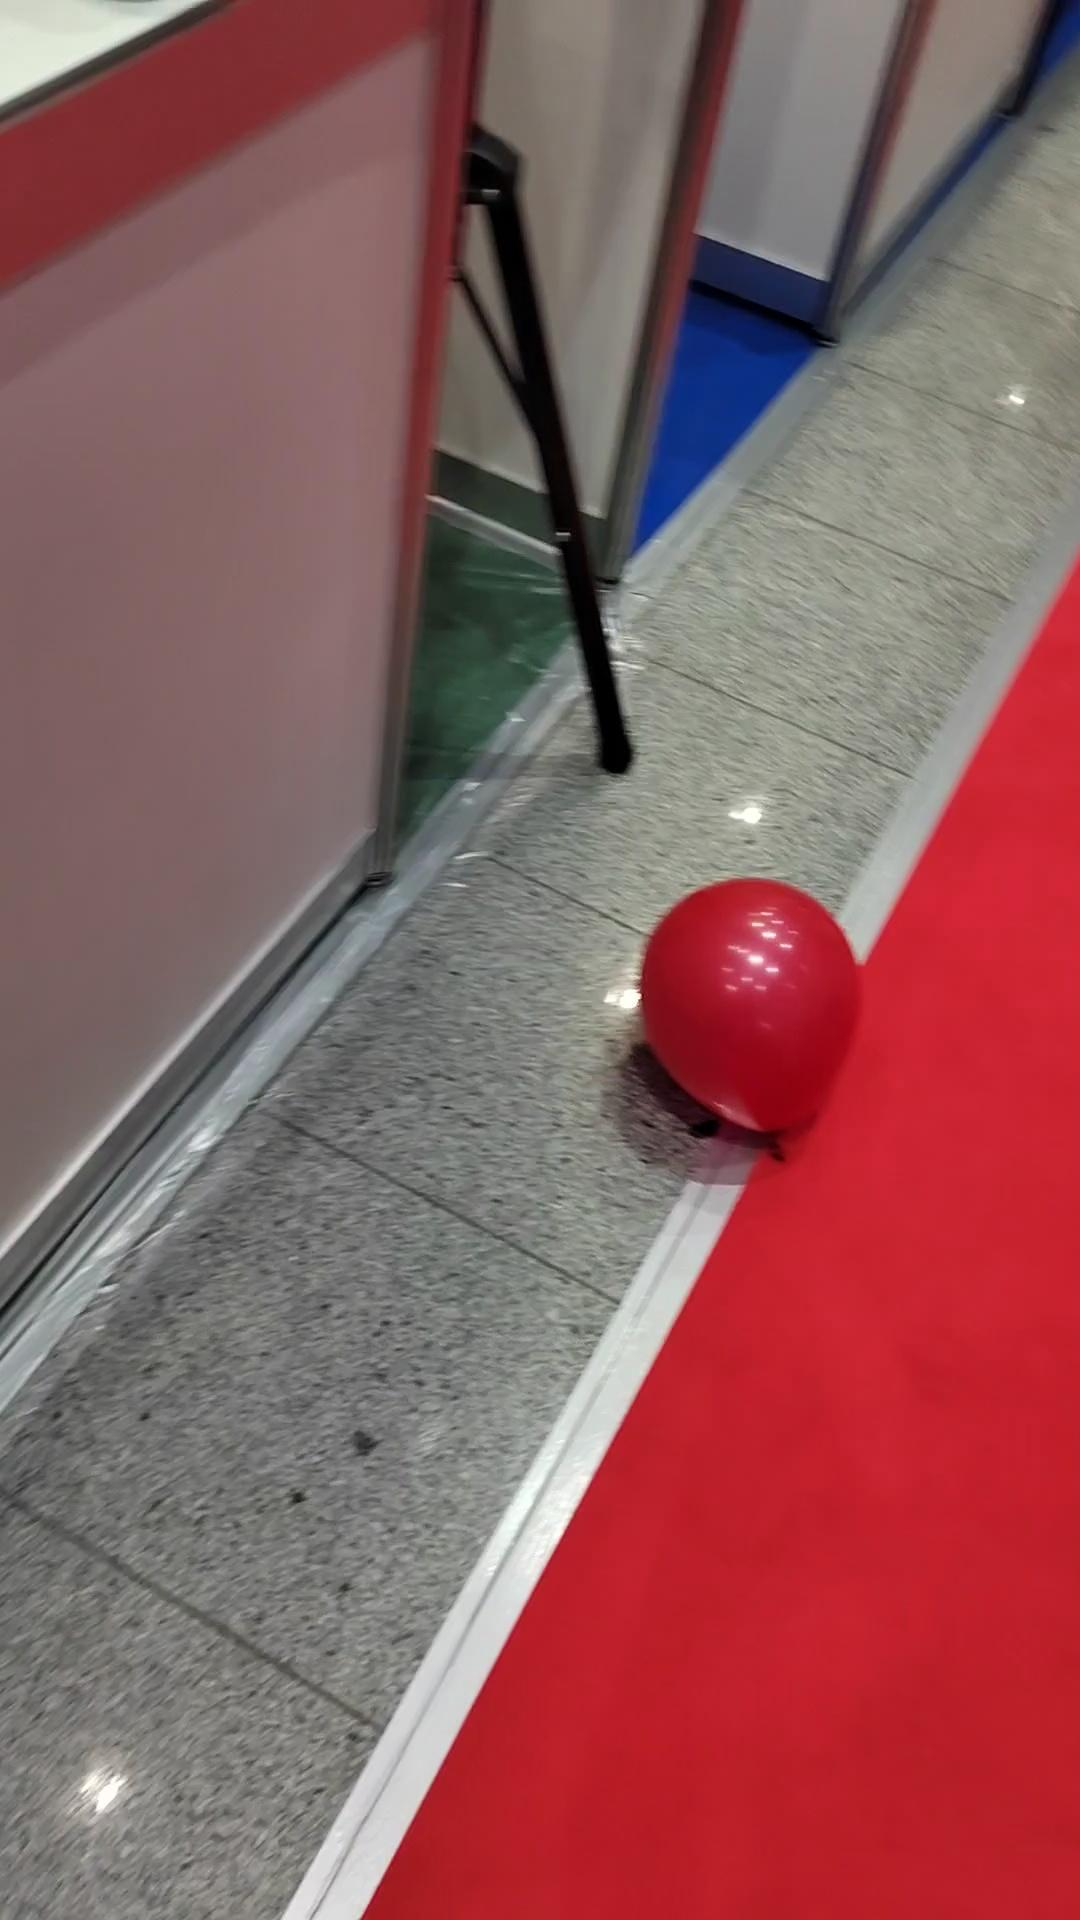red: (640, 877, 862, 1139)
